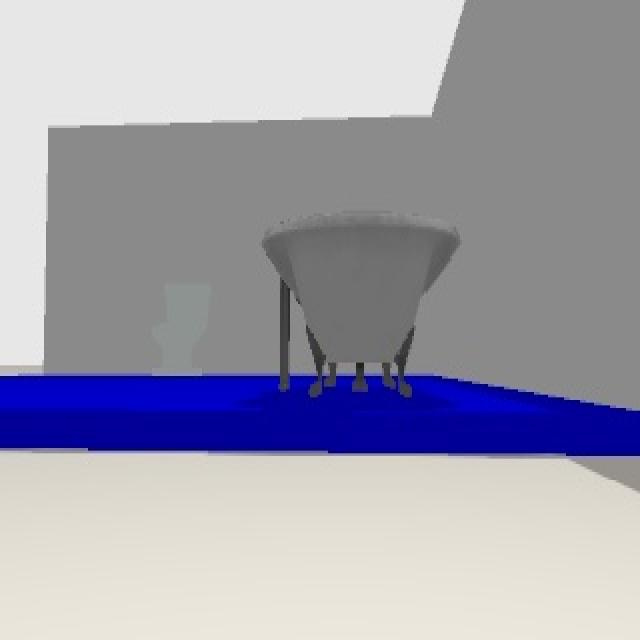bathtub: (259, 216, 457, 401)
